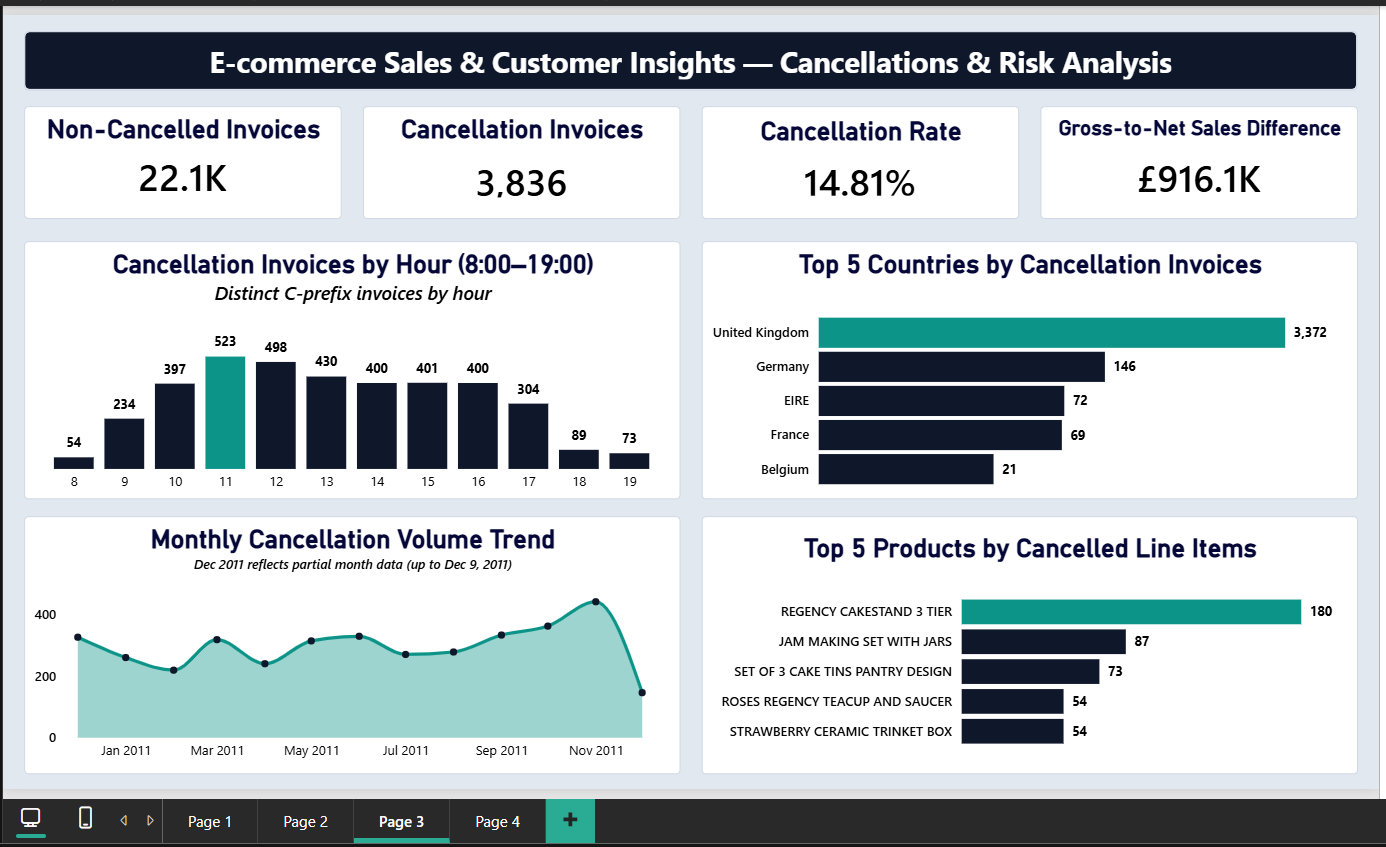

This screenshot's page, from the dashboard's own definition file:
{"tool":"powerbi","page":{"name":"Page 3","canvas":[1280,720],"ordinal":2},"visuals":[{"type":"cardVisual","title":"Non-Cancelled Invoices","fields":{"Data":["_Measures.Completed Orders (Non-Cancelled)"]},"box":[20,85,295,105],"z":0},{"type":"cardVisual","title":"Cancellation Invoices","fields":{"Data":["_Measures.Cancelled Invoices"]},"box":[335,85,295,105],"z":1000},{"type":"cardVisual","title":"Cancellation Rate","fields":{"Data":["_Measures.Cancellation Rate %"]},"box":[650,85,295,105],"z":2000},{"type":"cardVisual","title":"Gross-to-Net Sales Difference","fields":{"Data":["_Measures.Revenue Lost"]},"box":[965,85,295,105],"z":3000},{"type":"shape","title":"E-commerce Sales & Customer Insights — Executive Overview","box":[20.1,15,1240.2,55],"z":4000},{"type":"lineChart","title":"Monthly Cancellation Volume Trend","fields":{"Category":["online_retail_mysql.InvoiceDate.Variation.Date Hierarchy.Year","online_retail_mysql.InvoiceDate.Variation.Date Hierarchy.Month"],"Y":["_Measures.Cancelled Invoices"]},"box":[20,465.7,610,240],"z":5000},{"type":"clusteredBarChart","title":"Top 5 Products by Cancelled Line Items","fields":{"Category":["online_retail_mysql.Description"],"Y":["Sum(online_retail_mysql.is_cancellation)"]},"box":[650,465.7,610,240],"z":6000},{"type":"clusteredBarChart","title":"Top 5 Countries by Cancellation Invoices","fields":{"Category":["online_retail_mysql.Country"],"Y":["_Measures.Cancelled Invoices"]},"box":[650,210,610,240],"z":7000},{"type":"clusteredColumnChart","title":"Cancellation Invoices by Hour (8:00–19:00)","fields":{"Category":["online_retail_mysql.hour"],"Y":["_Measures.Cancelled Invoices"]},"box":[20,210,610,240],"z":8000}]}

Visuals, with their boxes on the page's 1280x720 design canvas (x1, y1, x2, y2). These are canvas units, not pixel positions in the 1386x847 screenshot, which may show the page scaled, cropped or inside an application window:
"Non-Cancelled Invoices" cardVisual: <region>20, 85, 315, 190</region>
"Cancellation Invoices" cardVisual: <region>335, 85, 630, 190</region>
"Cancellation Rate" cardVisual: <region>650, 85, 945, 190</region>
"Gross-to-Net Sales Difference" cardVisual: <region>965, 85, 1260, 190</region>
"E-commerce Sales & Customer Insights — Executive Overview" shape: <region>20, 15, 1260, 70</region>
"Monthly Cancellation Volume Trend" lineChart: <region>20, 466, 630, 706</region>
"Top 5 Products by Cancelled Line Items" clusteredBarChart: <region>650, 466, 1260, 706</region>
"Top 5 Countries by Cancellation Invoices" clusteredBarChart: <region>650, 210, 1260, 450</region>
"Cancellation Invoices by Hour (8:00–19:00)" clusteredColumnChart: <region>20, 210, 630, 450</region>
